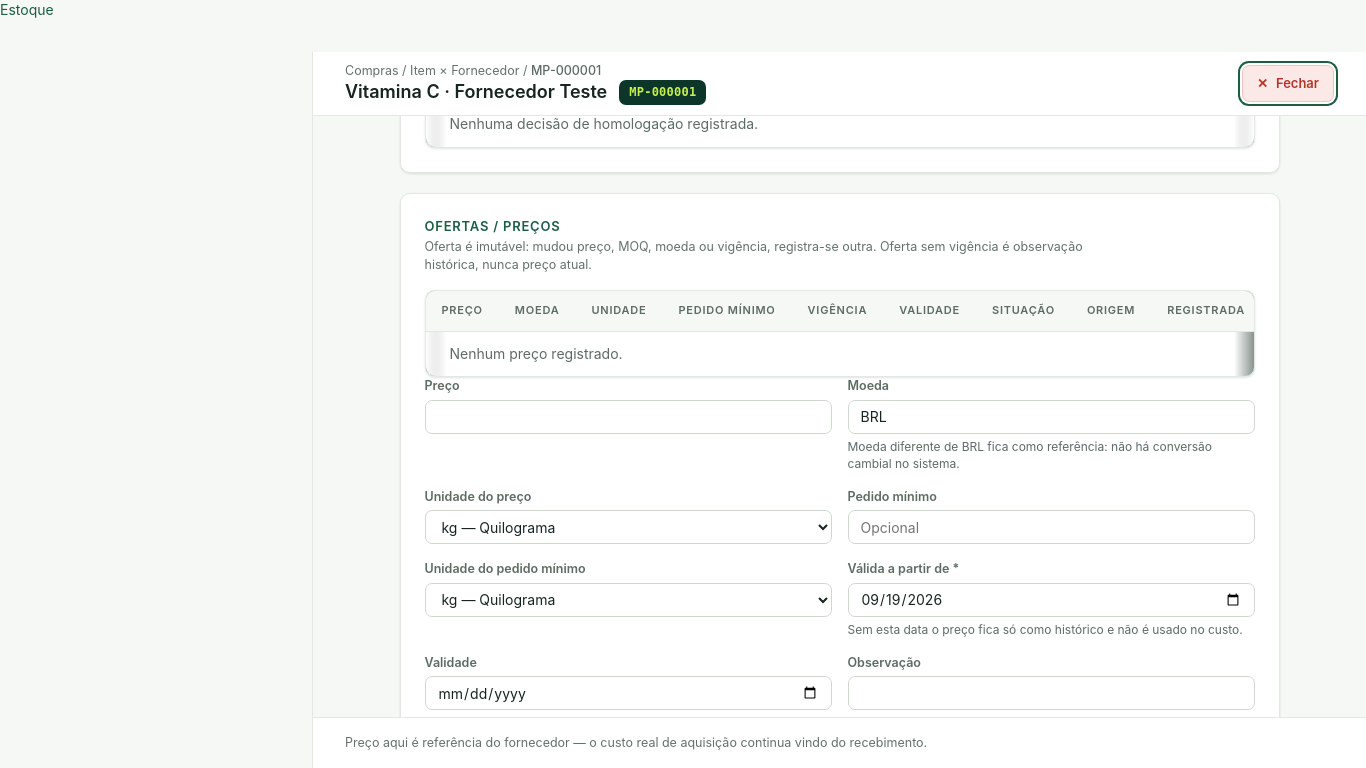
detalhe de Item × Fornecedor — pendência por bloco › oferta digitada pergunta
This screenshot has width=1366, height=768.
(page scrolled)
Expected: the heading "Vitamina C · Fornecedor Teste" is shown, [345,81,607,104]
Type "12,50" into the field with id "offer-price" at (628, 416), box [424,400,832,434]
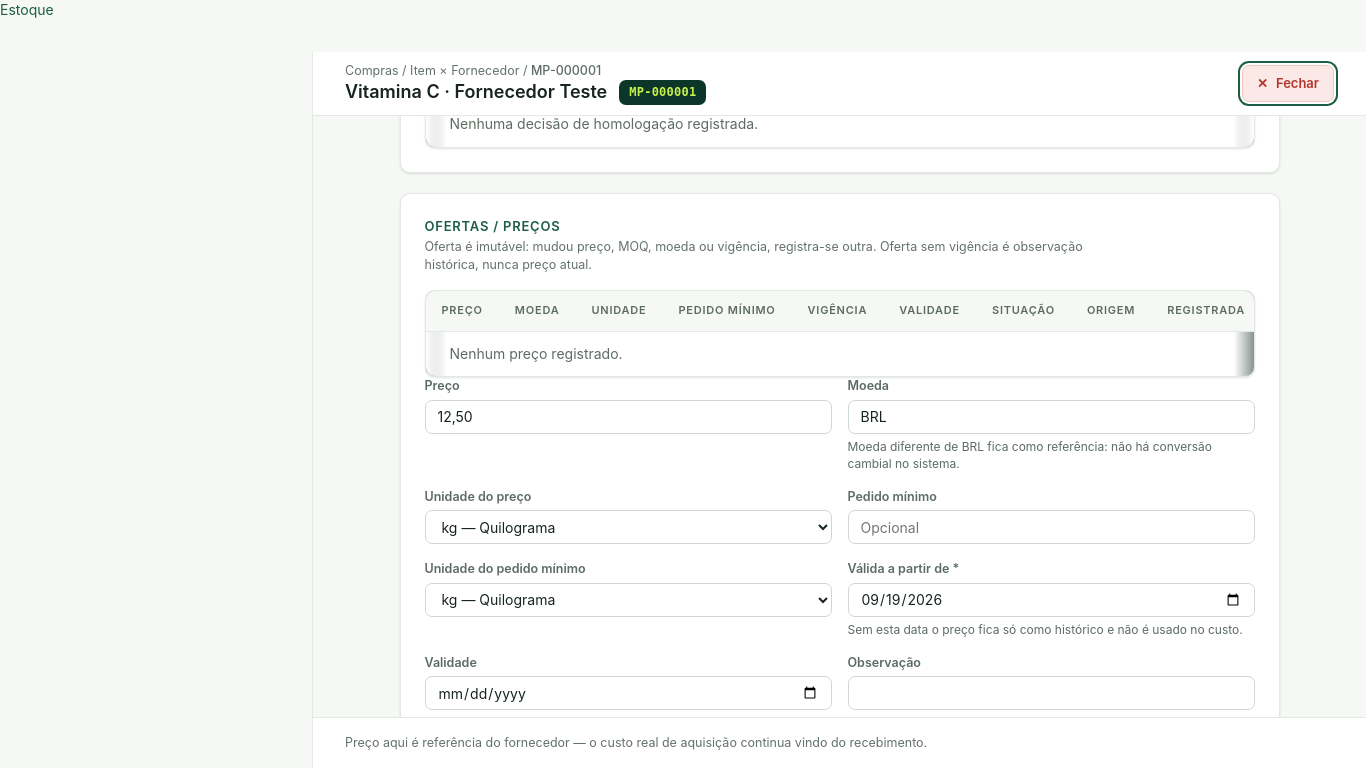
Click the link "Estoque" at (27, 10), box [0,1,54,18]
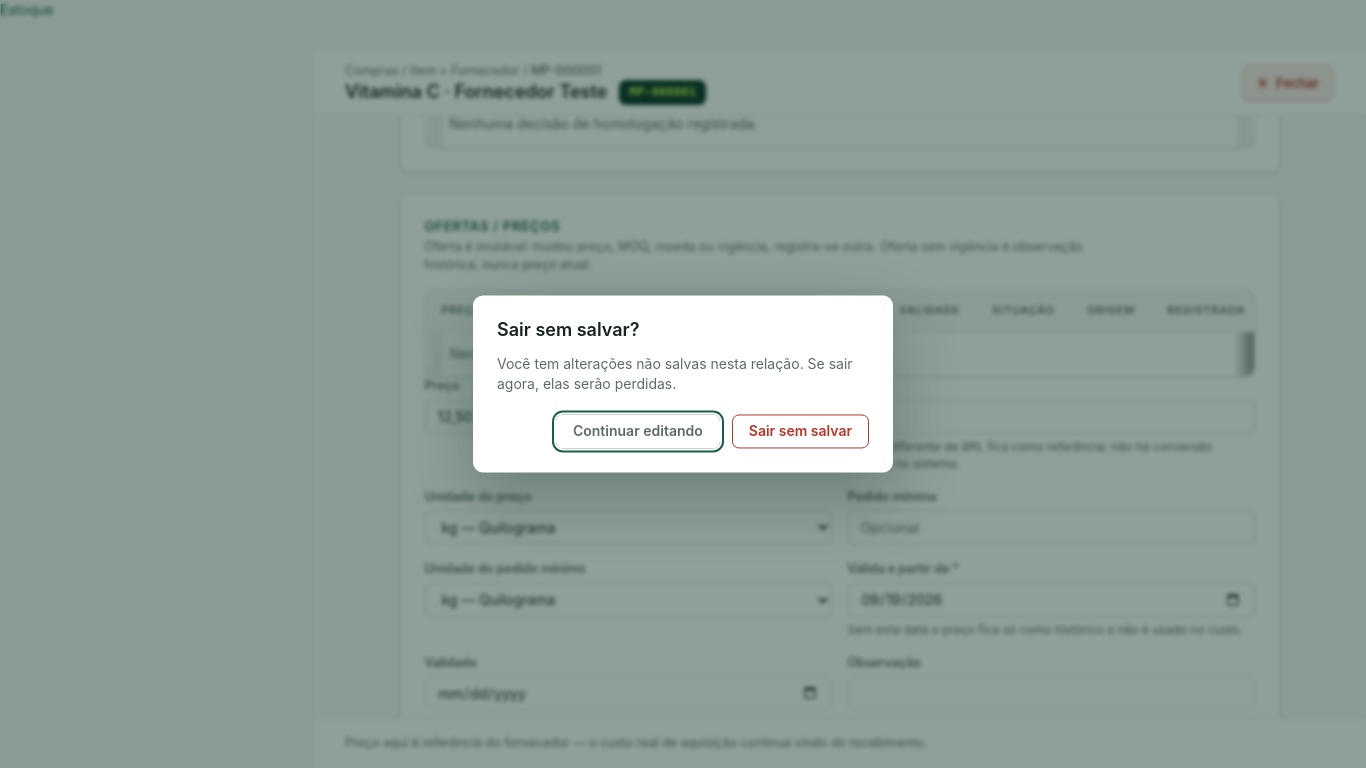
Expected: the heading "Sair sem salvar?" is shown, [497,320,640,340]
